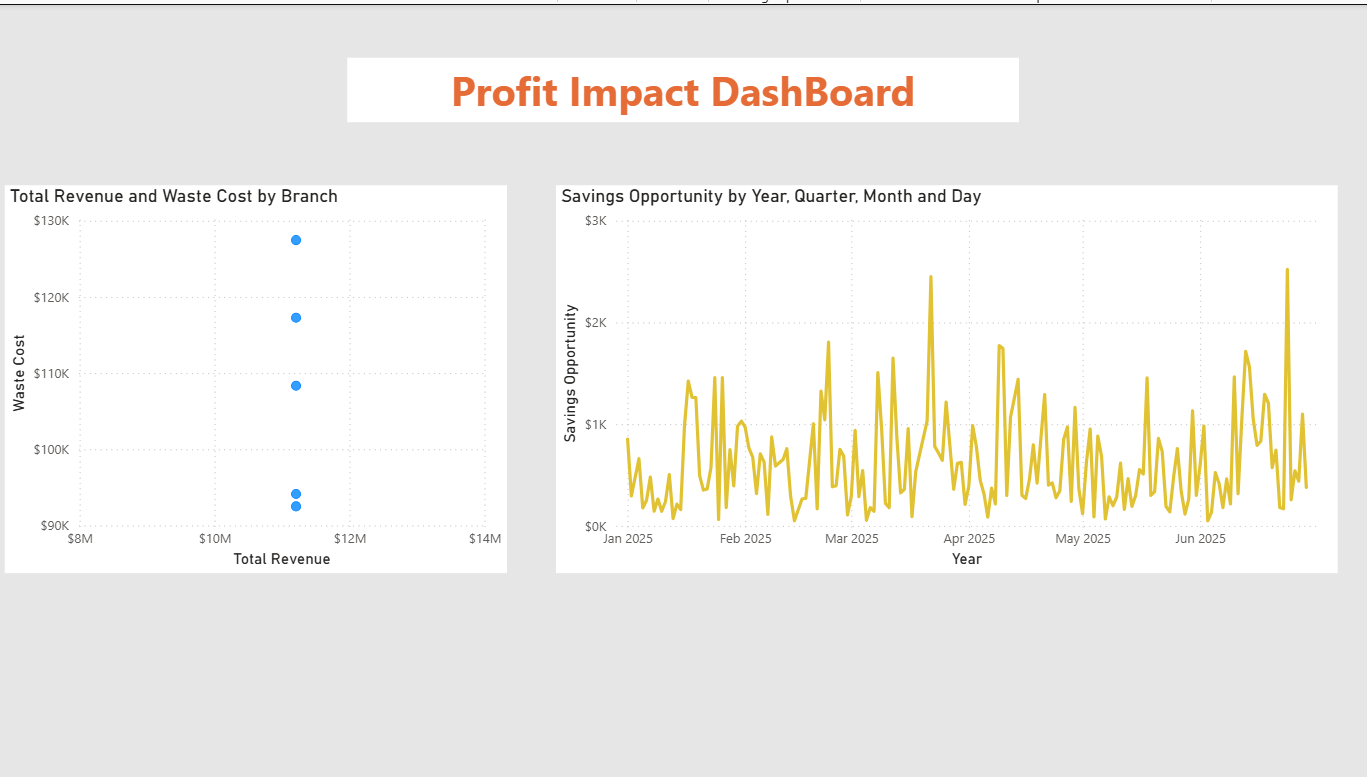

This screenshot's page, from the dashboard's own definition file:
{"tool":"powerbi","page":{"name":"Page 3","canvas":[1280,720],"ordinal":2},"visuals":[{"type":"scatterChart","fields":{"X":["MeasureTable.Total Revenue"],"Y":["MeasureTable.Waste Cost"],"Category":["WasteData.Branch"]},"box":[8.1,168.6,467.4,360.5],"z":0},{"type":"lineChart","fields":{"Y":["MeasureTable.Savings Opportunity"],"Category":["Calender.Date.Variation.Date Hierarchy.Year","Calender.Date.Variation.Date Hierarchy.Quarter","Calender.Date.Variation.Date Hierarchy.Month","Calender.Date.Variation.Date Hierarchy.Day"]},"box":[520.7,168.5,727.2,360.9],"z":1000},{"type":"textbox","box":[327.2,50,625,59.8],"z":2000}]}

Visuals, with their boxes in screenshot pixels (x1, y1, x2, y2), scaled from the page's 1280x720 canvas onto the 1367x777 screenshot:
scatterChart - MeasureTable.Total Revenue x MeasureTable.Waste Cost: x1=9, y1=182, x2=508, y2=571
lineChart - MeasureTable.Savings Opportunity x Calender.Date.Variation.Date Hierarchy.Year: x1=556, y1=182, x2=1333, y2=571
textbox: x1=349, y1=54, x2=1017, y2=118
